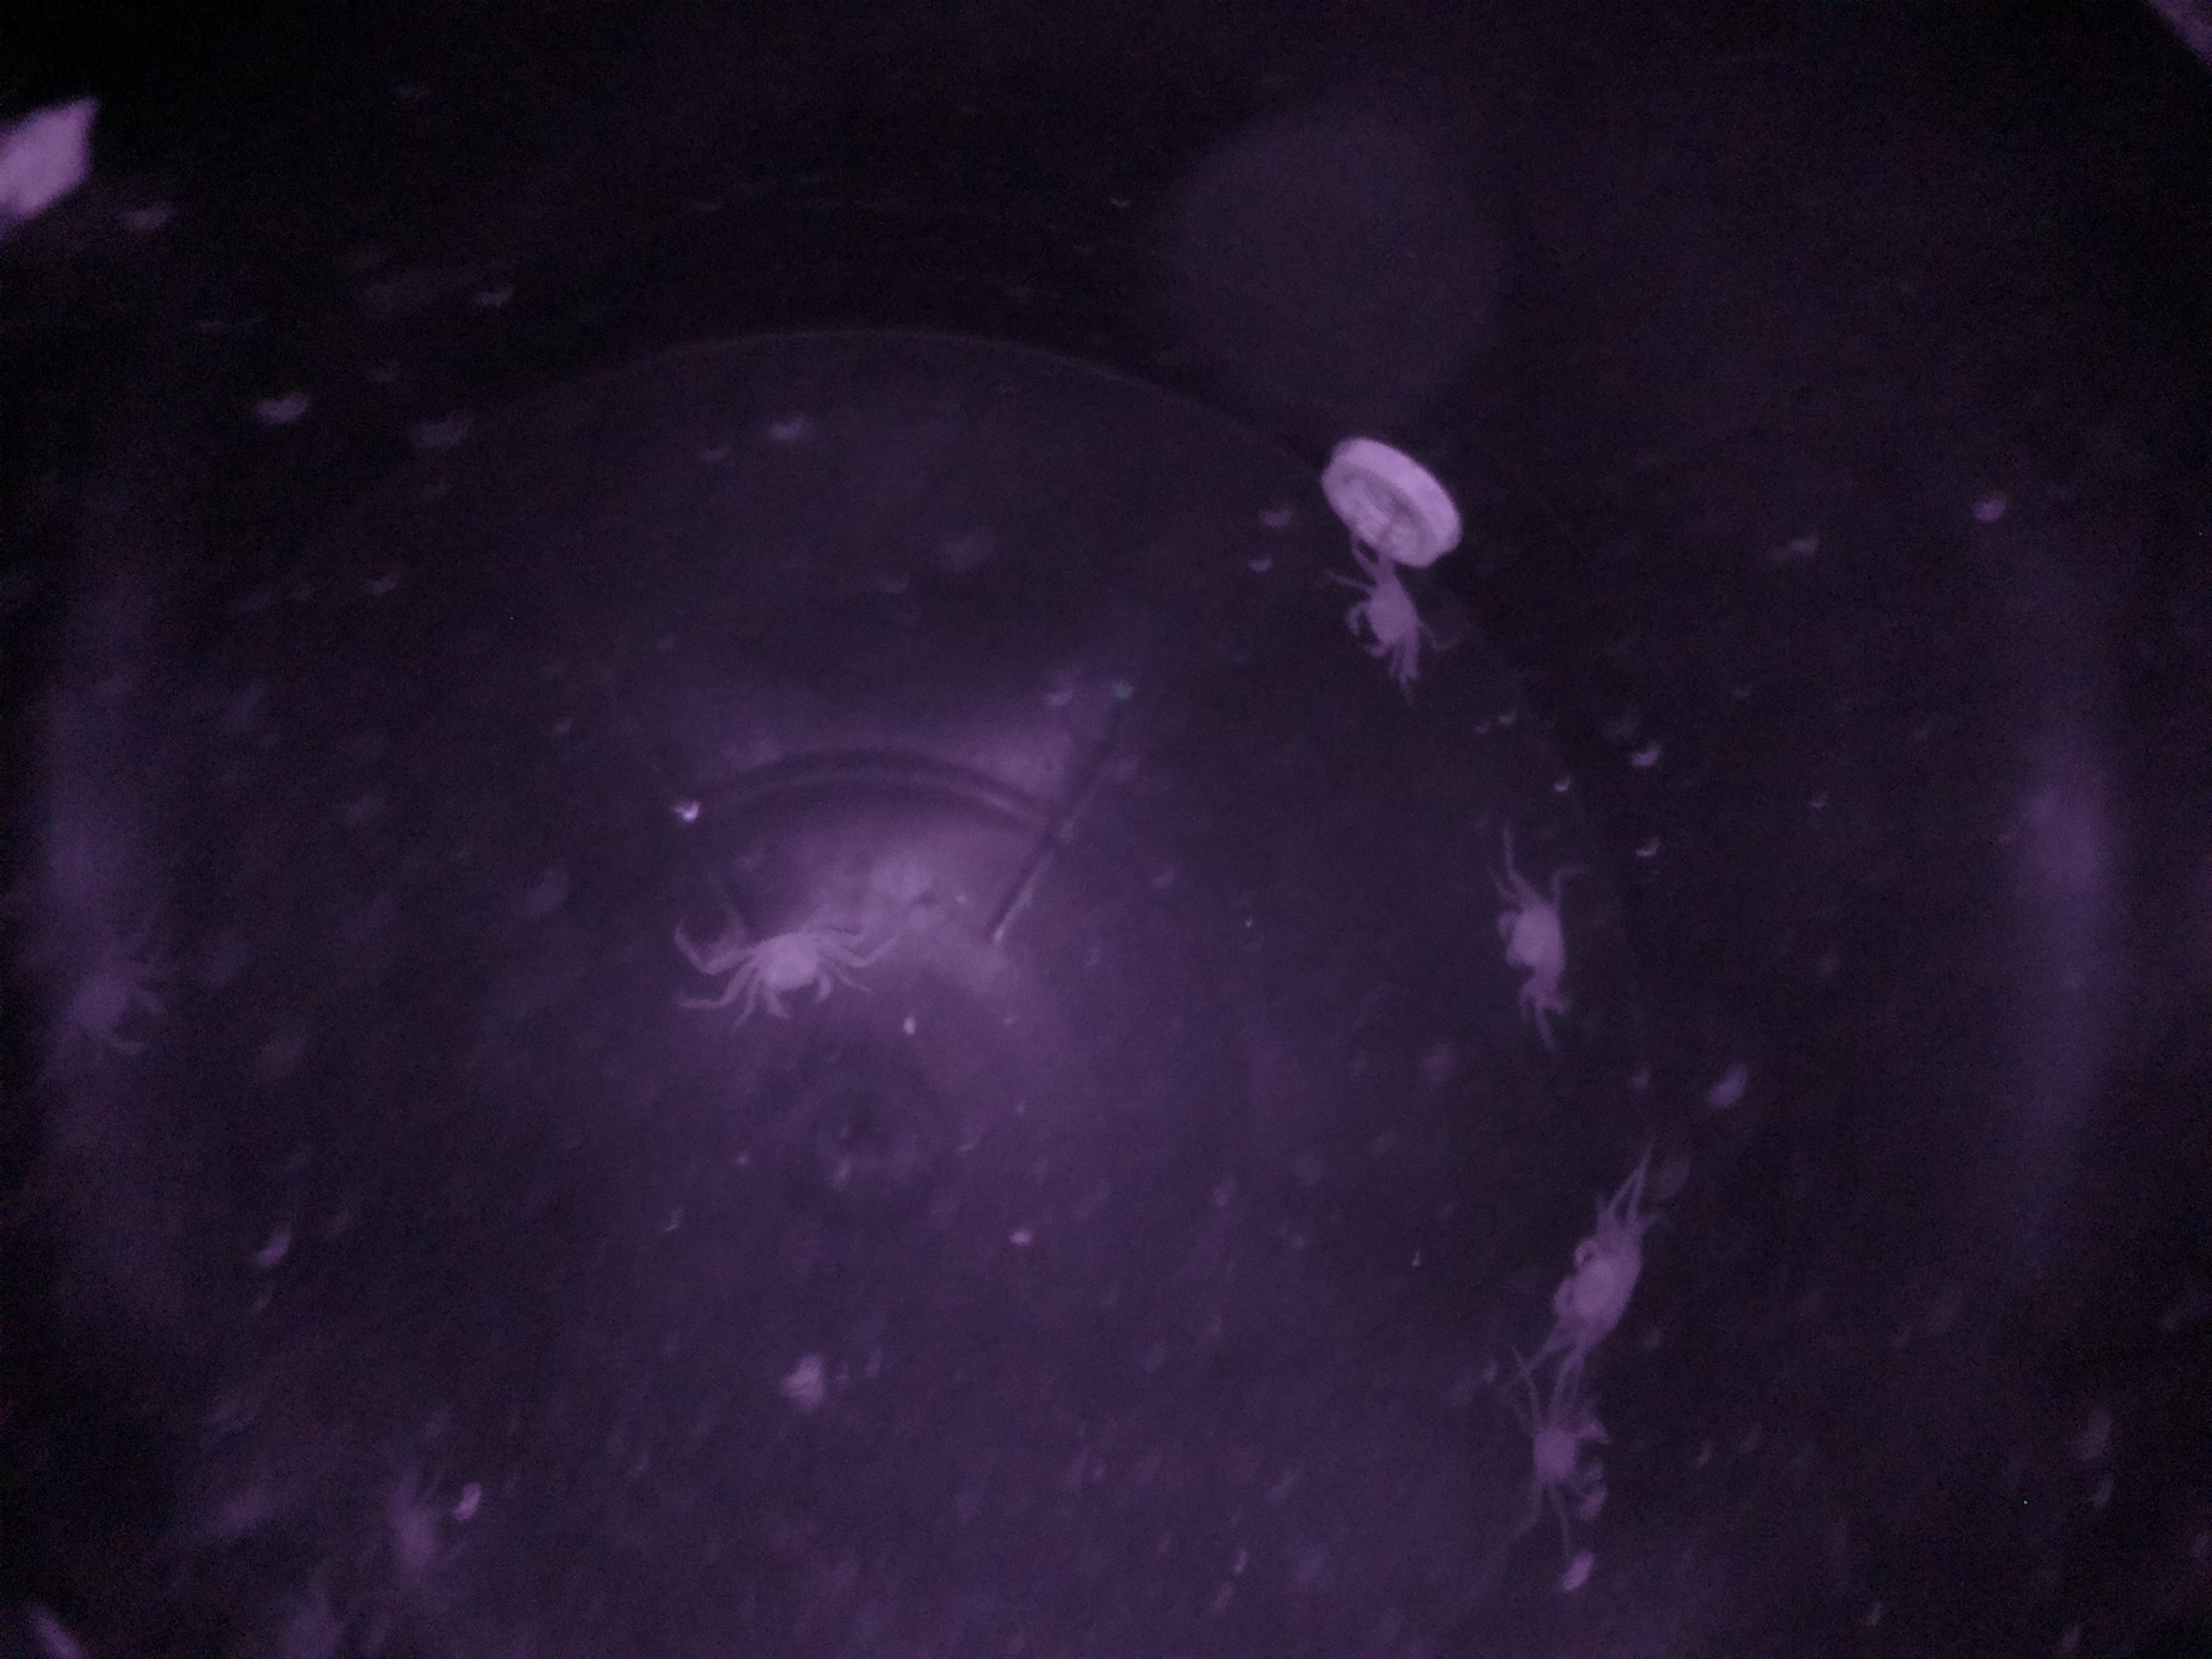Crab: (1524, 1208, 1651, 1366), (1484, 871, 1601, 1016), (737, 906, 852, 1040), (1332, 561, 1446, 683)
